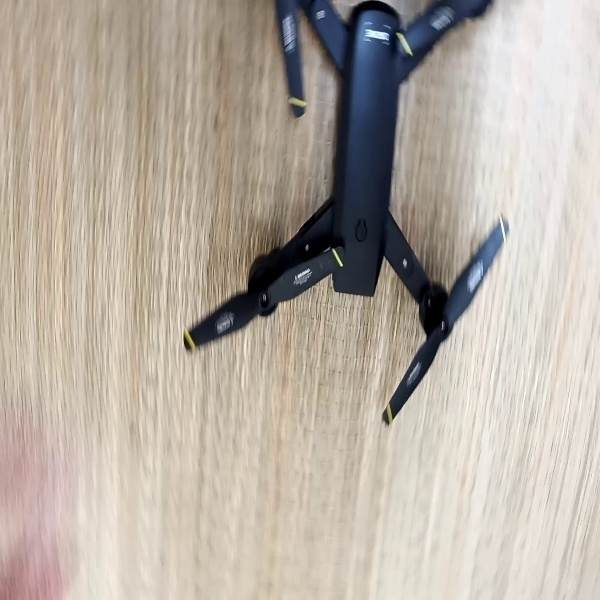drone: (181, 1, 509, 427)
